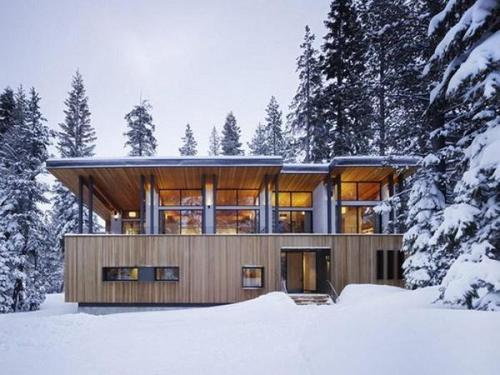buildings: (42, 139, 432, 299)
